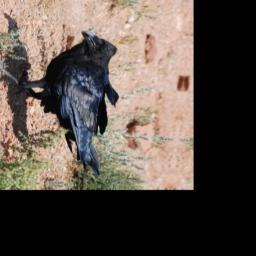Crow: (0, 26, 128, 179)
